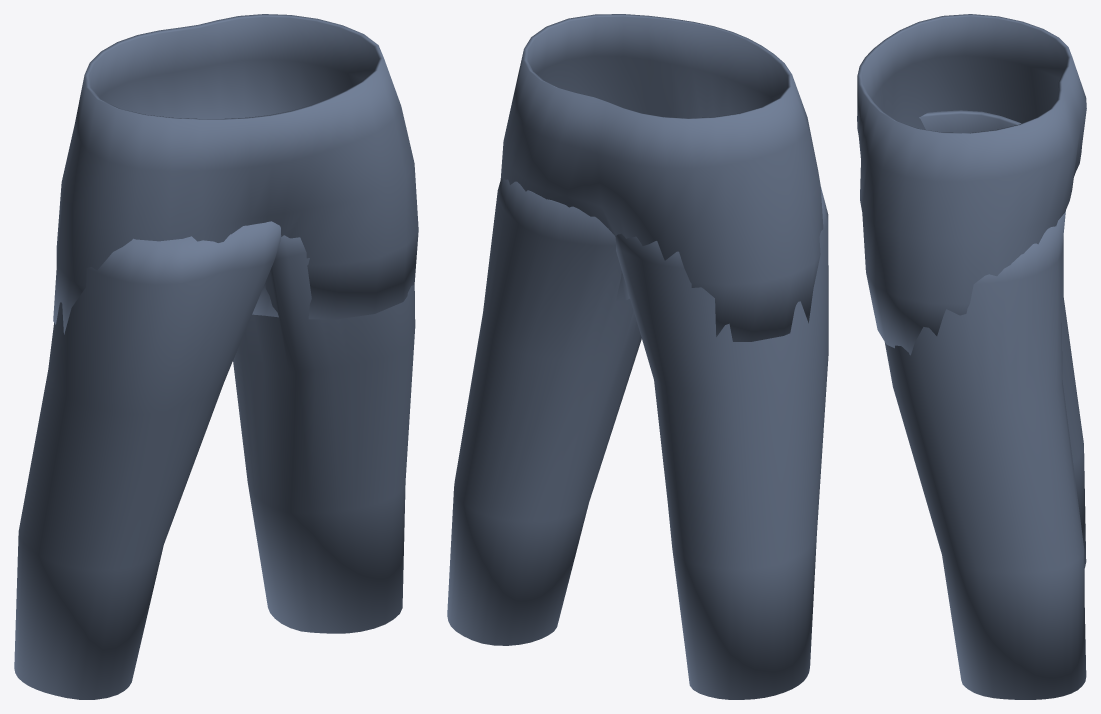
The model's file is chinos.glb.
3 renders of one model, left to right at view 1: azimuth 30°, elevation 25°; view 2: azimuth 150°, elevation 25°; view 3: azimuth 270°, elevation 25°, orthographic. The views are drawn at different scales.
Parts seen in each view (by area): view 1: chinos; view 2: chinos; view 3: chinos.
Boxes of the visible parts, left/top/right/bottom form: chinos: left=14, top=14, right=418, bottom=699; chinos: left=447, top=14, right=828, bottom=699; chinos: left=857, top=14, right=1086, bottom=699.
Bounding box in the file's own units: 0.48 × 0.7489 × 0.2831.
